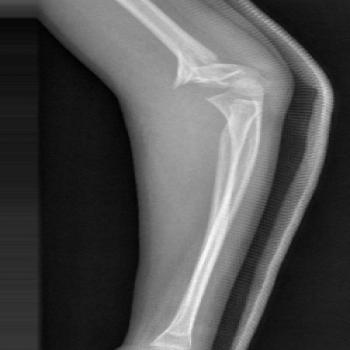Fracture: (168, 79, 237, 98)
